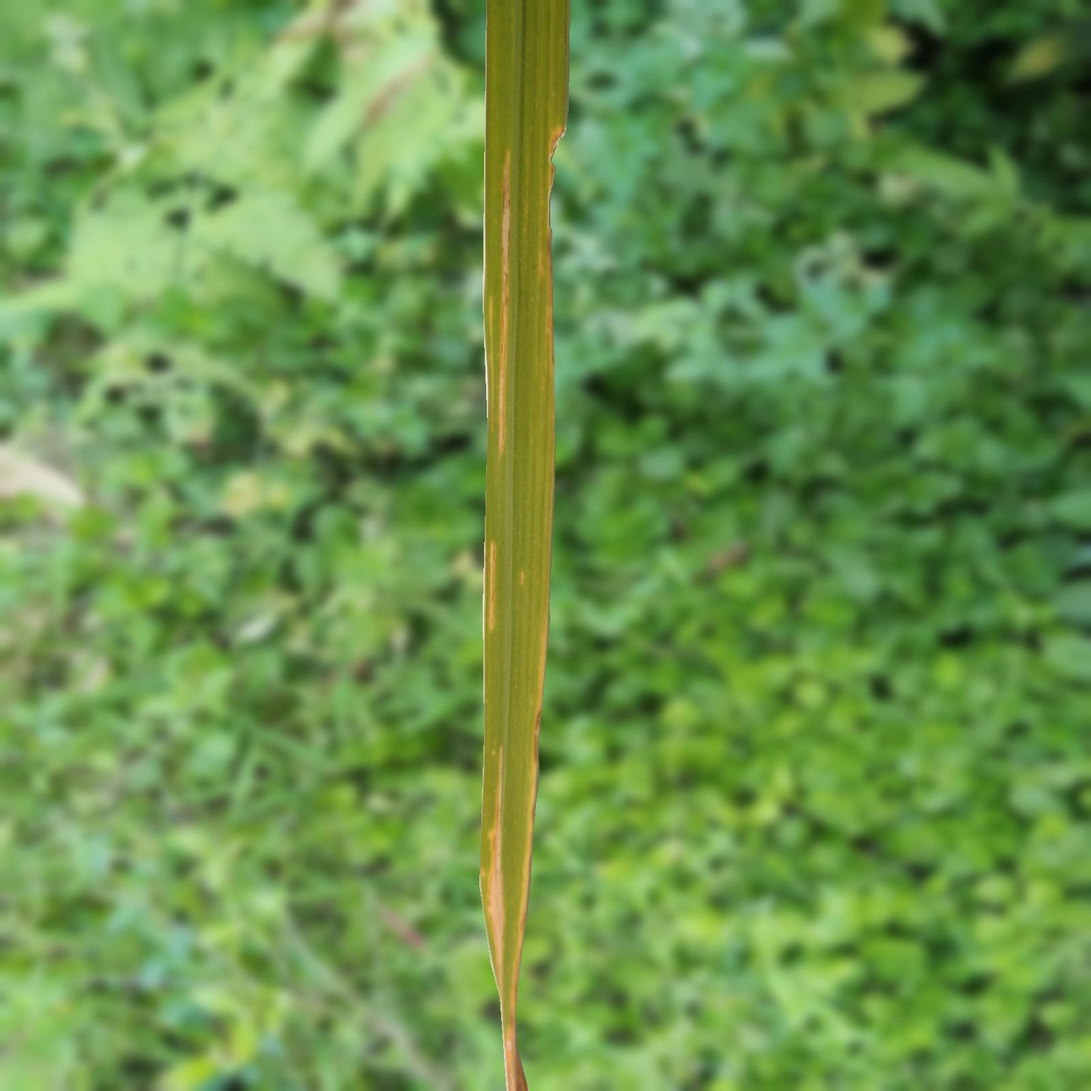BLS: (504, 709, 541, 1090), (485, 745, 507, 1005), (498, 149, 511, 459), (487, 539, 497, 633), (489, 295, 495, 433)
LEAF: (479, 0, 570, 1090)
